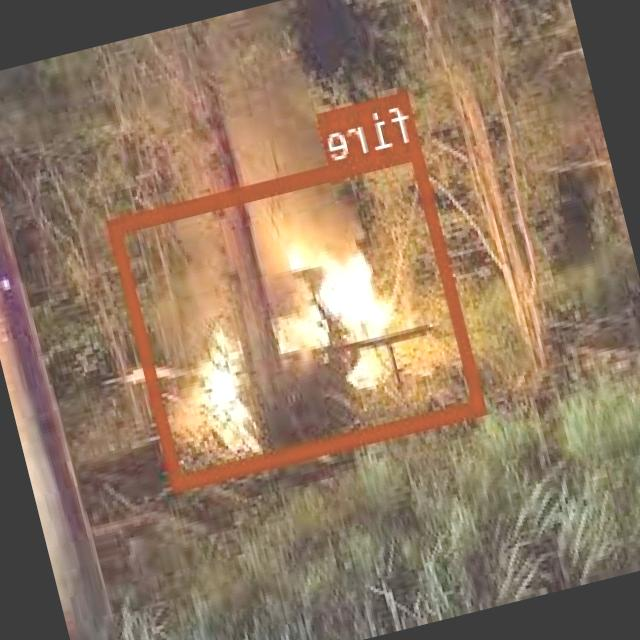fire: (108, 139, 487, 486)
